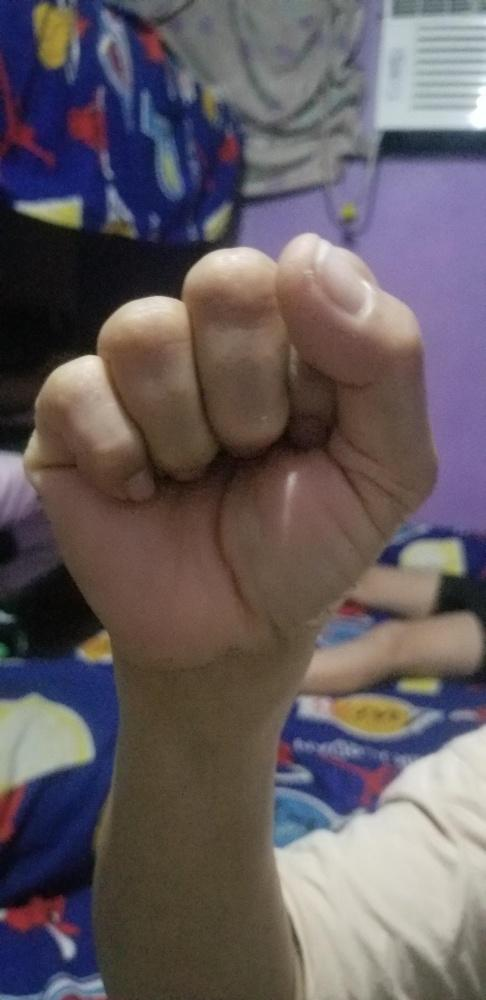s: (22, 231, 437, 673)
